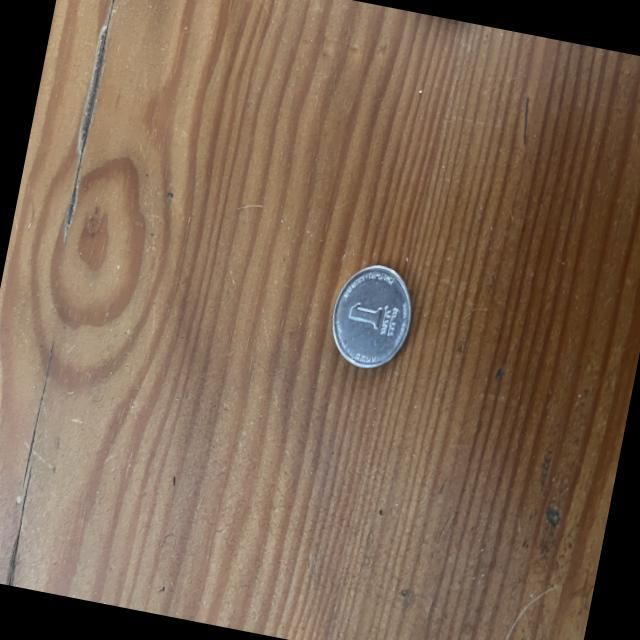1-shekel: (317, 256, 423, 388)
